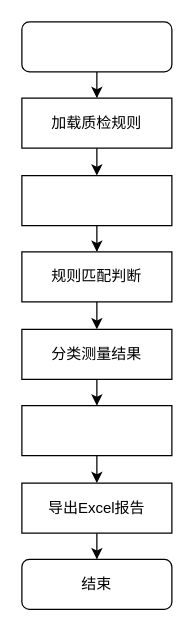
Image size: 194x631. Some labels were removed from this diagram. The shapes that lost their labels are listed below. From the top down, each one's centre as x and y in pixels, then its label:
At pixel 96 46: "开始".
At pixel 96 200: "提取测量数据".
At pixel 96 430: "生成质检报告".
